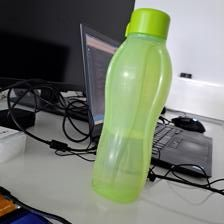bottle: (87, 5, 176, 205)
